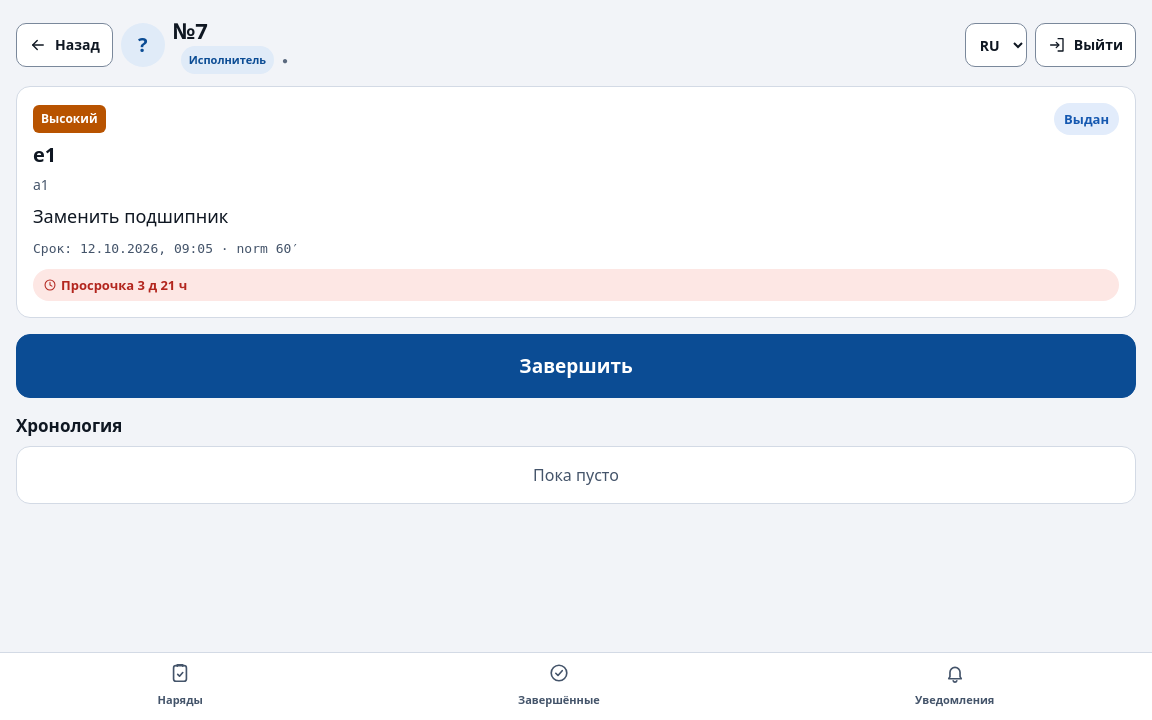
Scenario: WorkerOrder photo retry › счётчик и дизейбл на лимите 10
Click the button "Завершить". click: coordinates (576, 366)
box: [16, 334, 1136, 398]
(page scrolled)
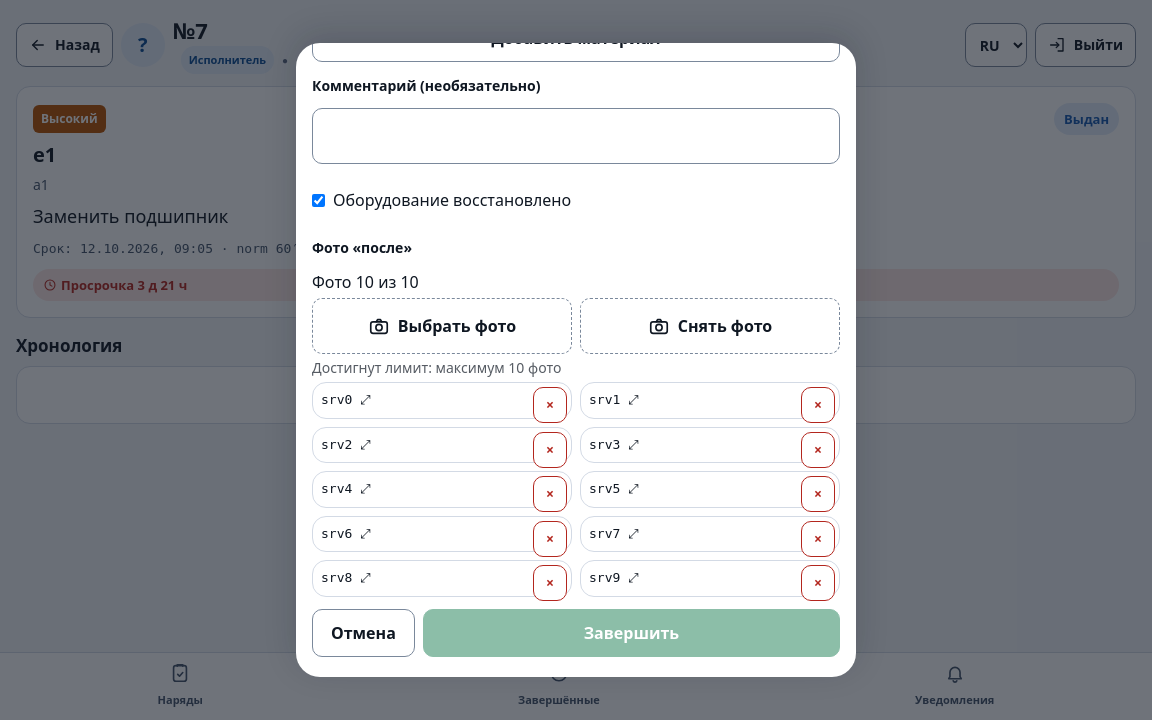
Now the dialog is shown, box [296, 43, 856, 677]
Now the text "Фото 10 из 10" is shown, box [312, 271, 419, 293]
Now the file field labelled "Выбрать фото" is disabled, box [312, 298, 572, 354]
